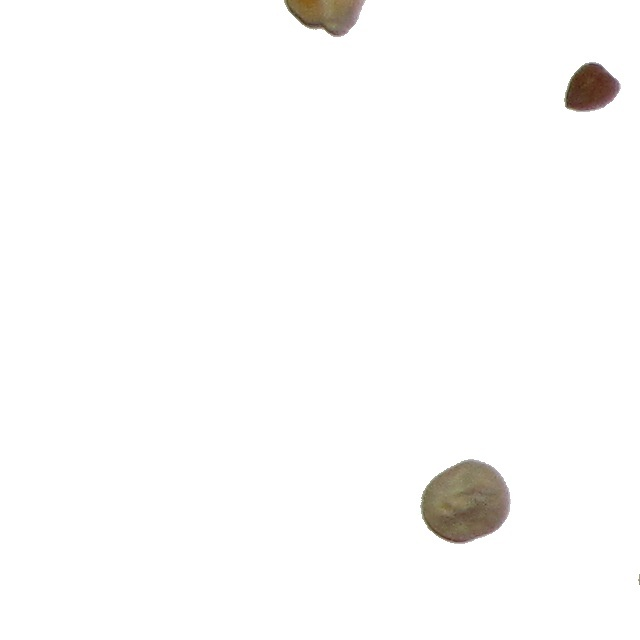buckwheat: (563, 61, 622, 113)
dill: (637, 558, 640, 590)
mais: (419, 458, 512, 545)
